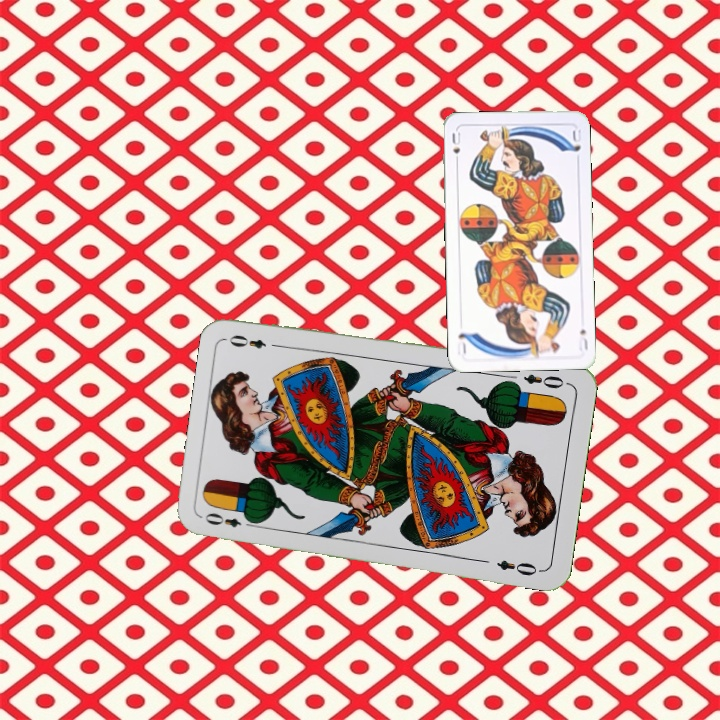EO: (200, 508, 258, 530), (519, 369, 566, 392)
SU: (448, 128, 463, 168), (574, 325, 590, 353)
